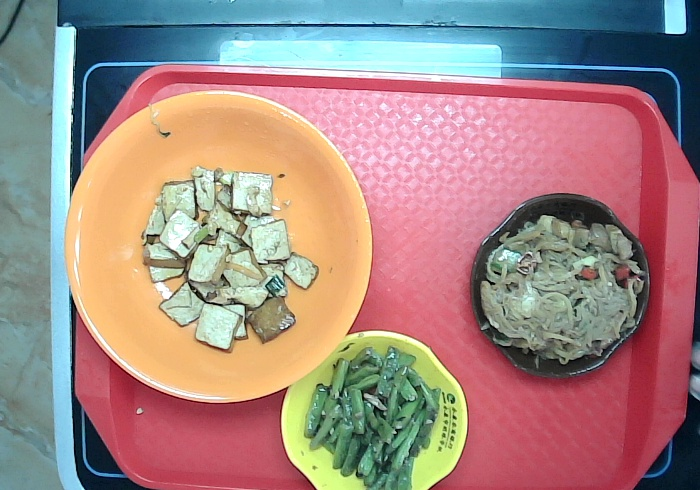YKMZ-Huang_Se_Ao_Bian_Wan: (271, 319, 476, 490)
YKMZ-Ju_Se_Tang_Wan: (58, 85, 381, 406)
YKMZ-Ka_Fei_Ao_Bian_Wan: (466, 188, 656, 388)
